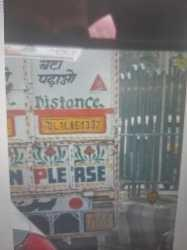License plate: (40, 116, 106, 134)
